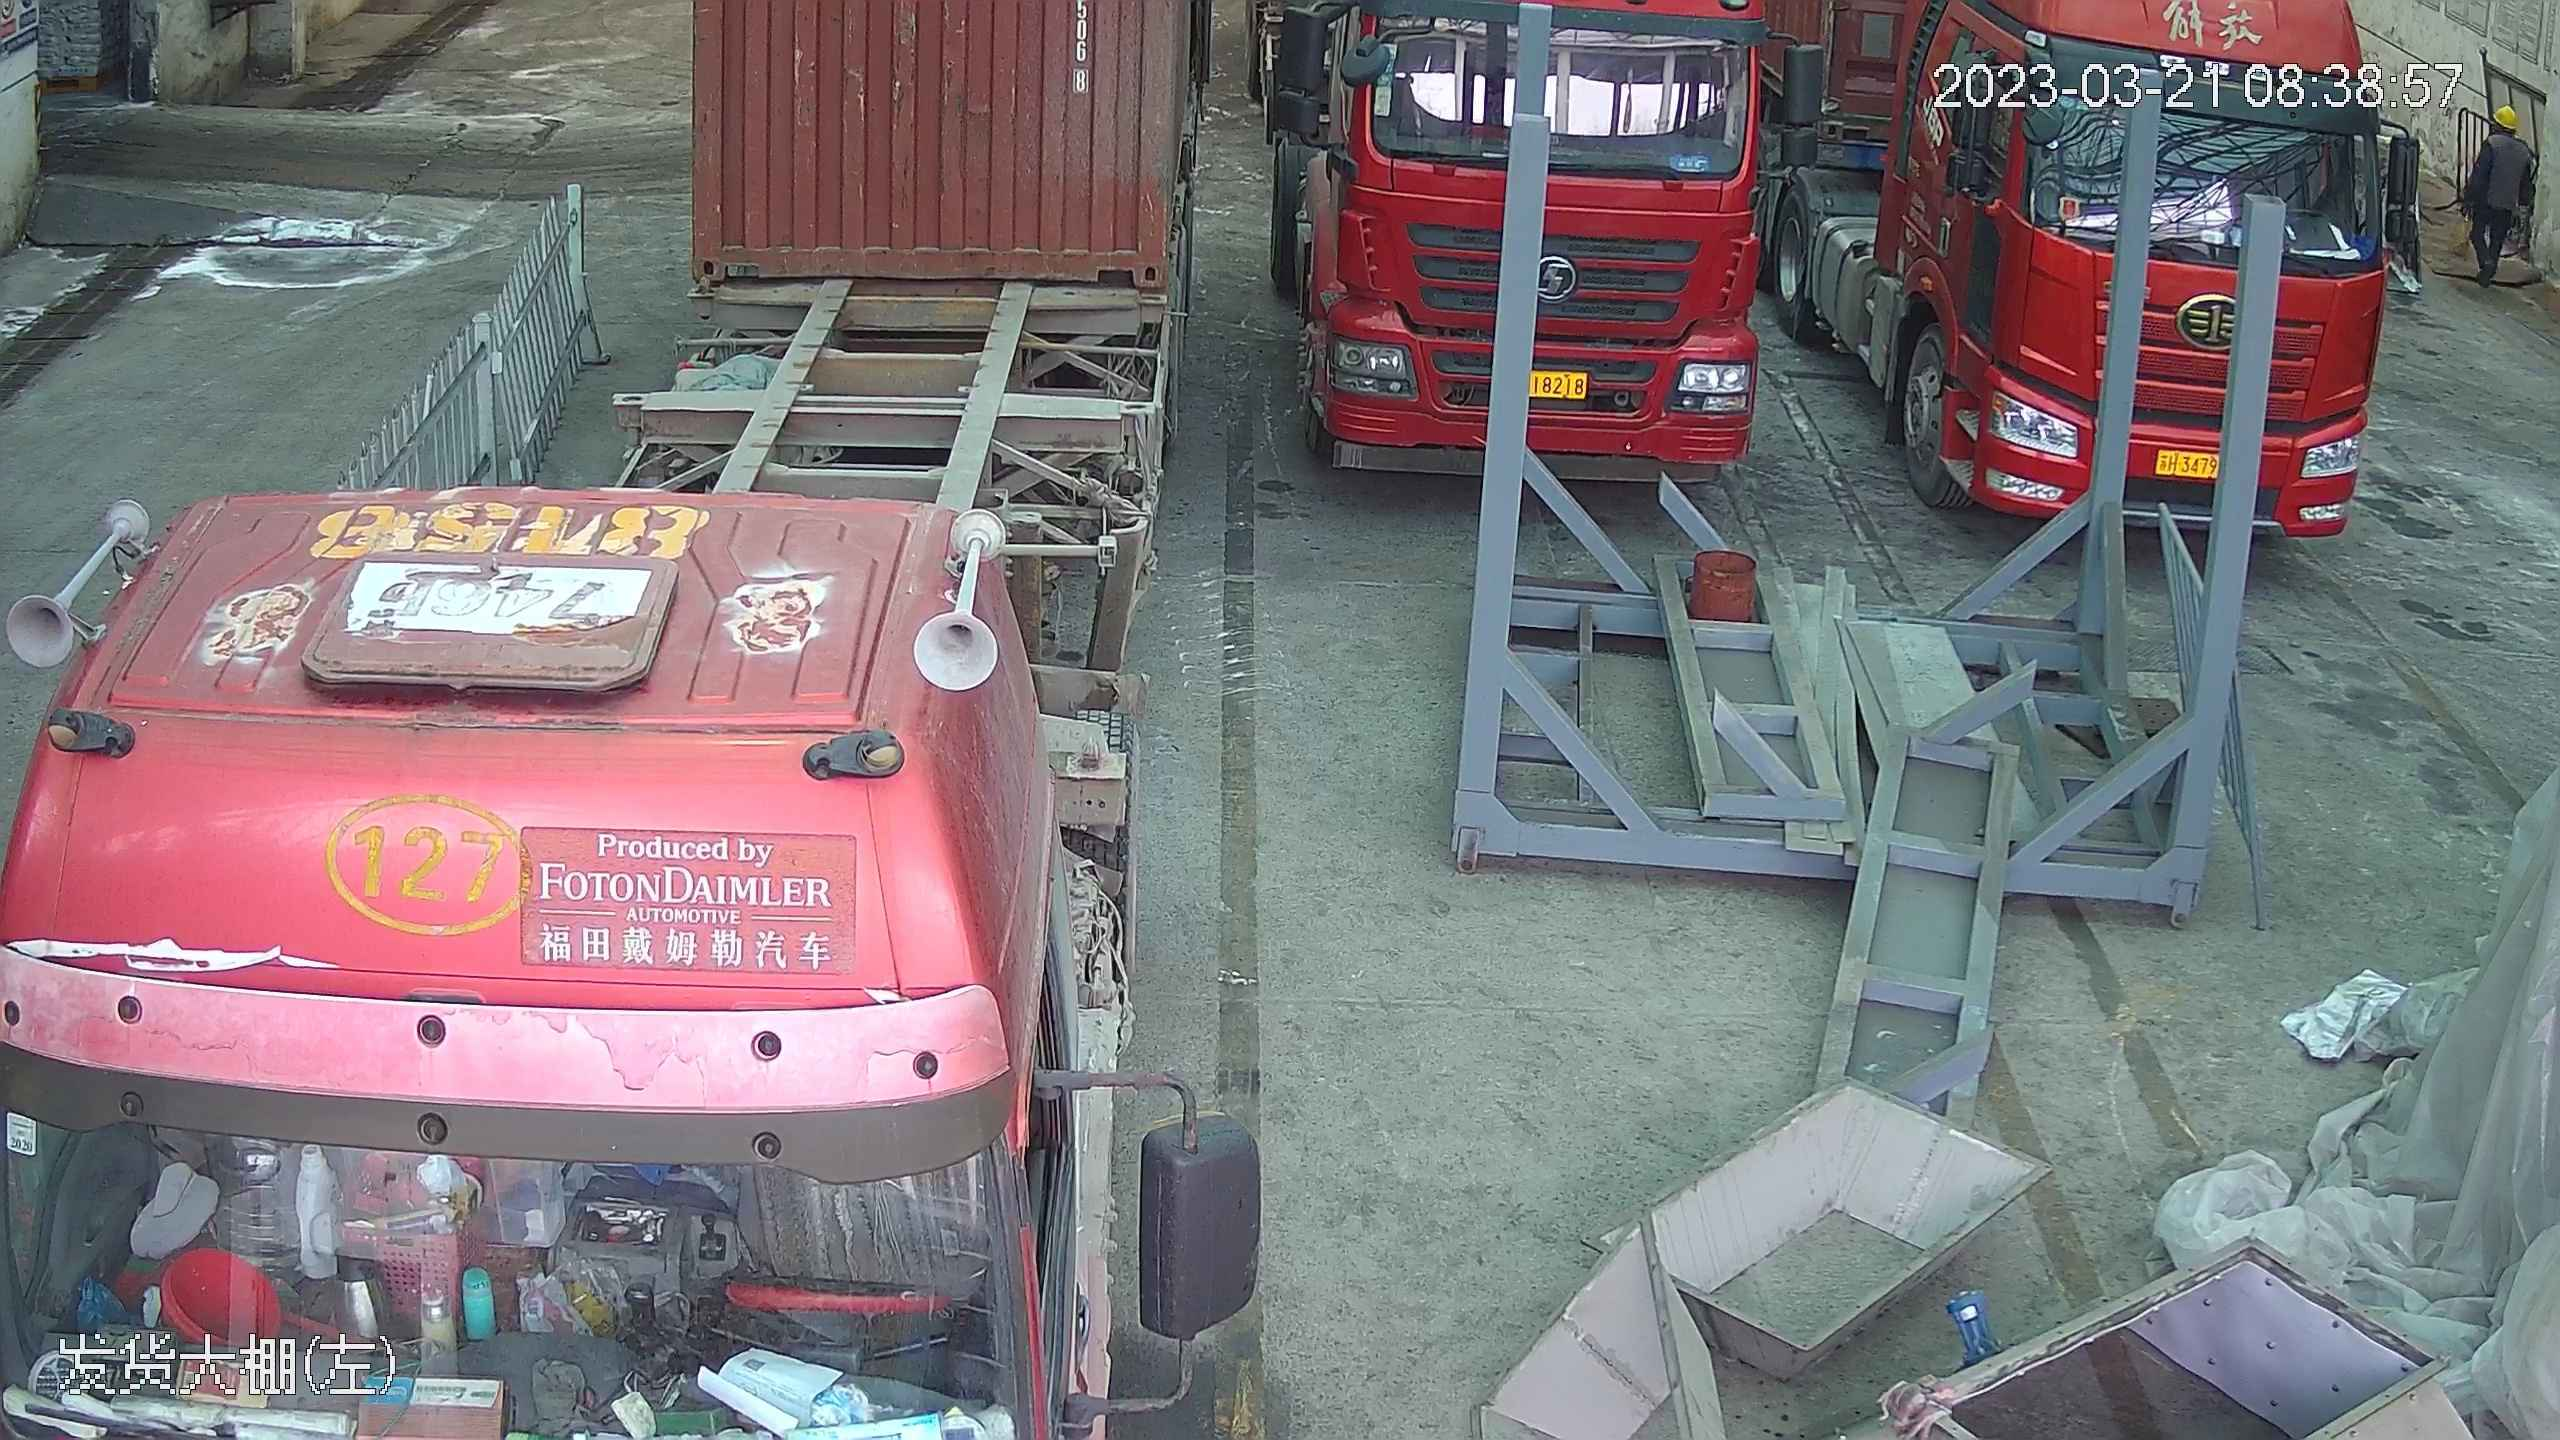head: (2471, 102, 2534, 165)
helmet: (2490, 102, 2522, 128)
people: (2456, 99, 2538, 291)
truck: (0, 0, 1185, 1440), (1823, 9, 2426, 538), (1252, 0, 1787, 484)
